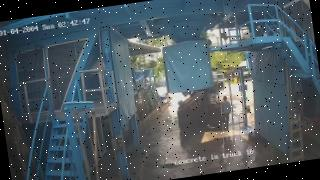cement_mixer_truck: (177, 68, 224, 129)
